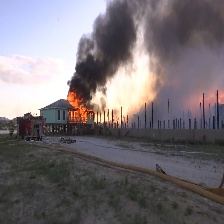fire: (65, 90, 92, 122)
smoke: (59, 1, 223, 88)
